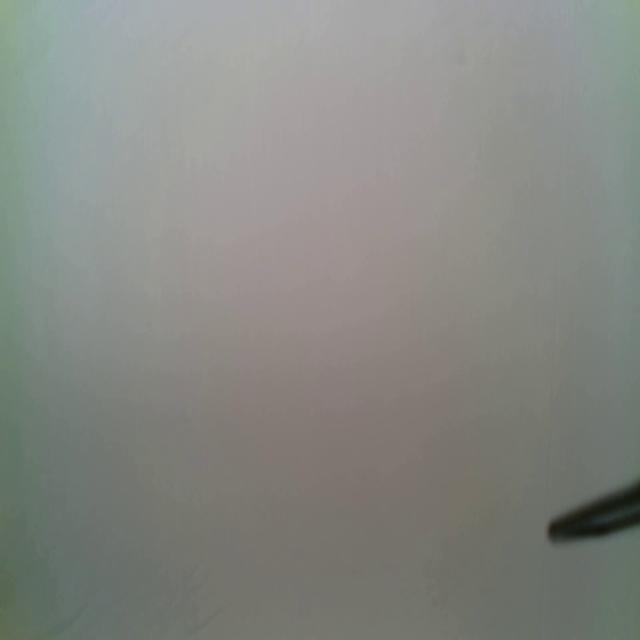crease: (544, 79, 566, 492)
